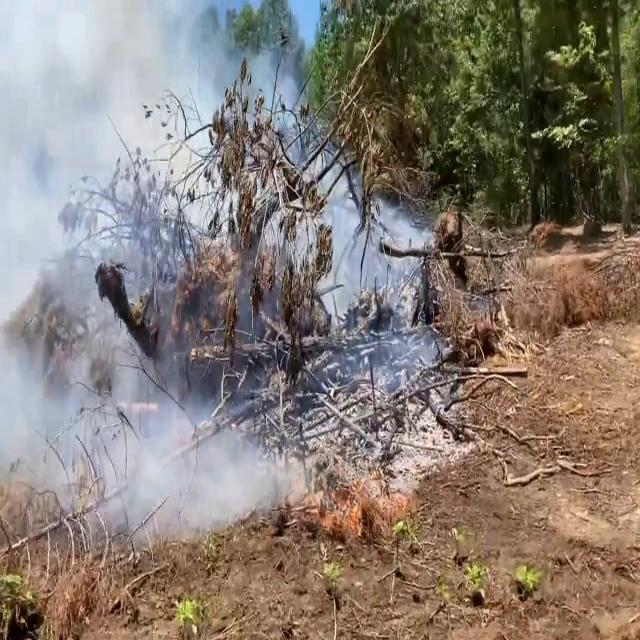Smoke: (0, 2, 293, 551), (322, 166, 436, 377)
